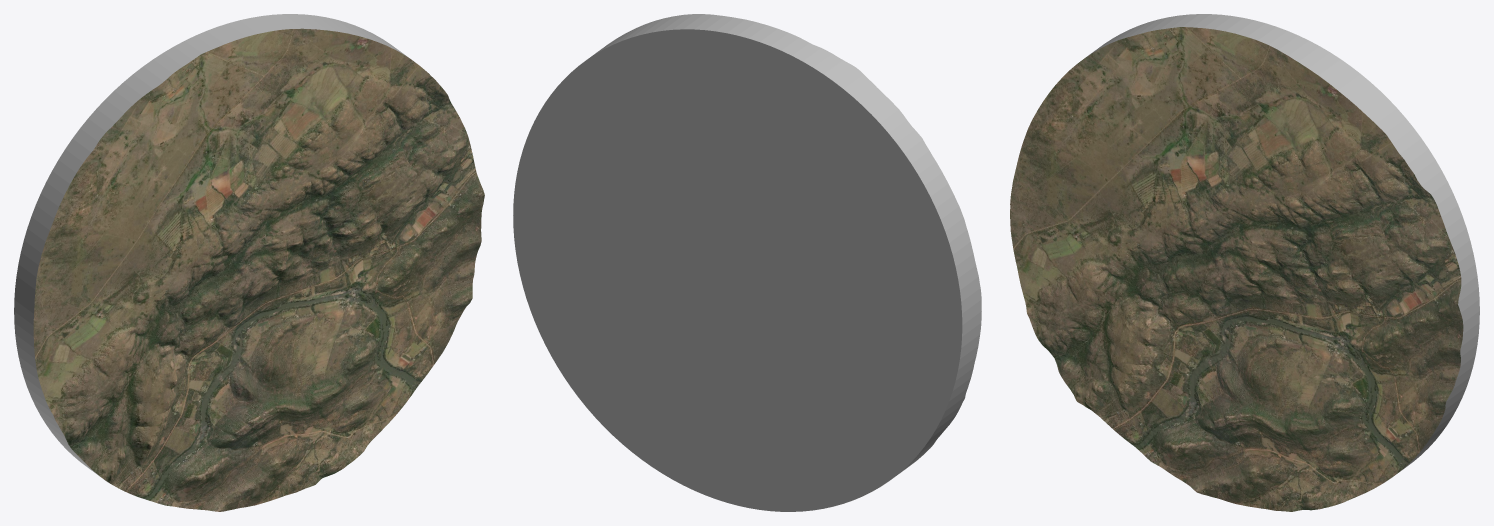
File: kroonstad_johannesburg.glb
3 renders of one model, left to right at view 1: azimuth 30°, elevation 25°; view 2: azimuth 150°, elevation 25°; view 3: azimuth 330°, elevation 25°, orthographic.
Size of the model in its own units: 200 by 200 by 20.57.
Materials: 2 (1 with a texture image).
